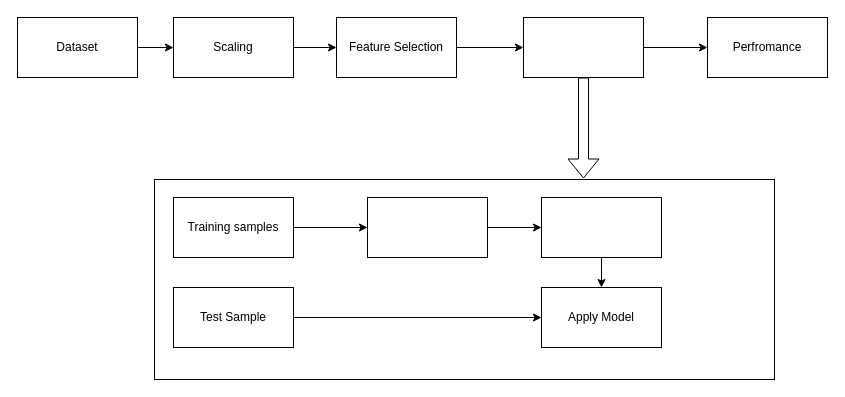
Some shapes in this 845 by 397 pixel diagram are drawn without their labels. Here are the shapes that lost their labels. From the top down, the centre of each, then its label:
the point at 583,47: Training Phase
the point at 427,227: Sampling Method
the point at 601,227: Model training
